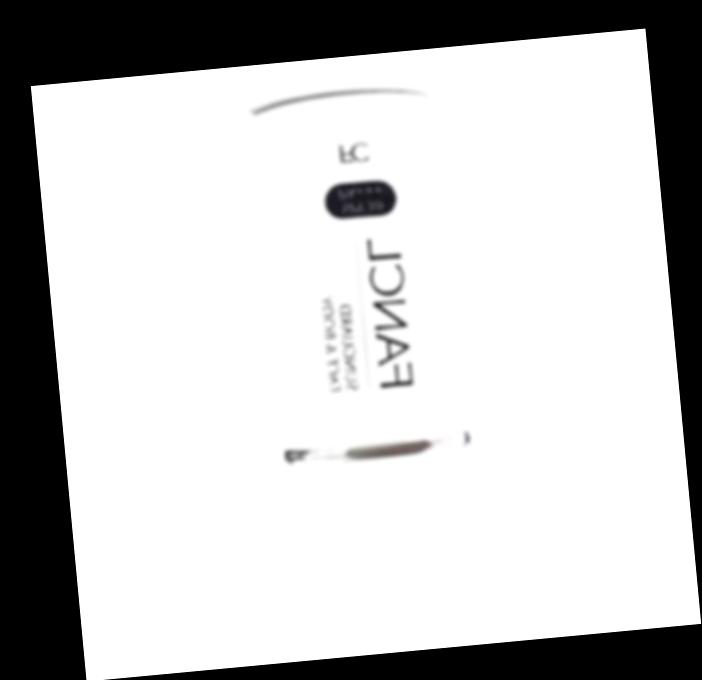cosmetic: (240, 83, 494, 581)
